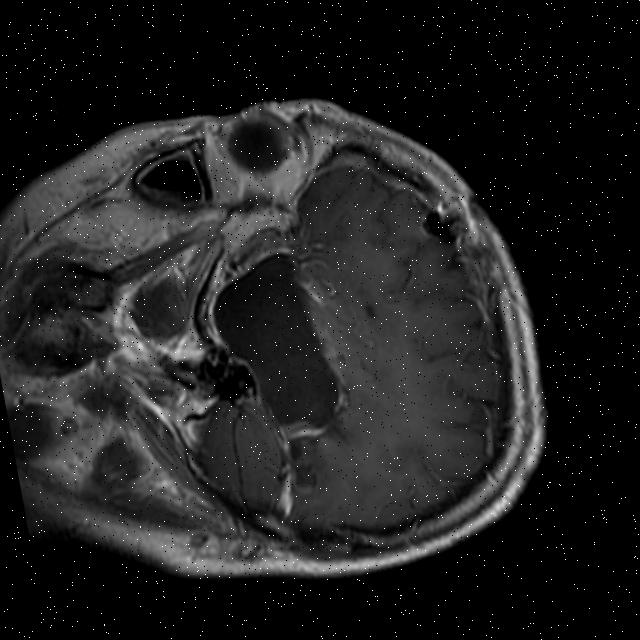Glioma: (197, 244, 349, 446)
